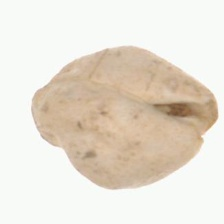L1: (155, 92, 220, 145)
L2: (26, 46, 219, 190)
